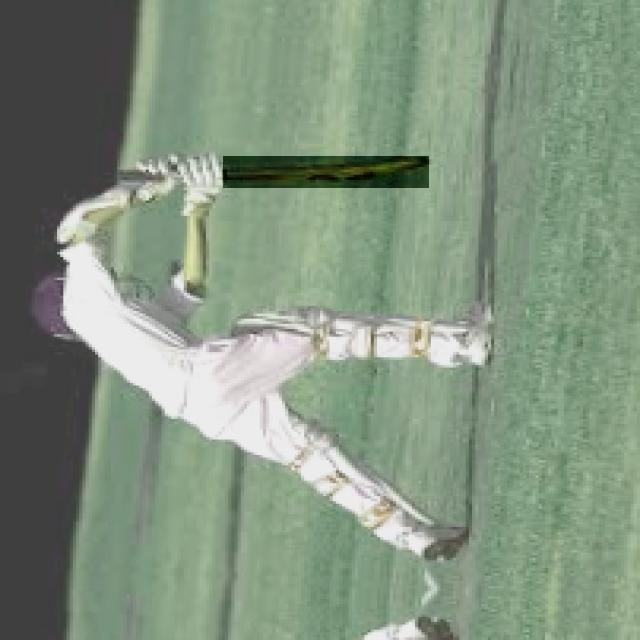bat: (224, 149, 435, 195)
toe: (411, 141, 434, 196)
